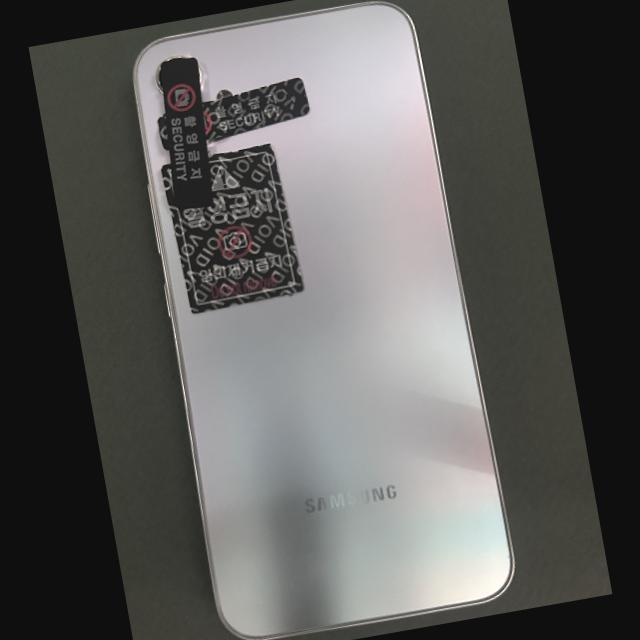lens: (156, 65, 163, 92)
phone: (135, 3, 513, 639)
sticker: (160, 142, 304, 313), (159, 57, 213, 208), (203, 77, 311, 139)
